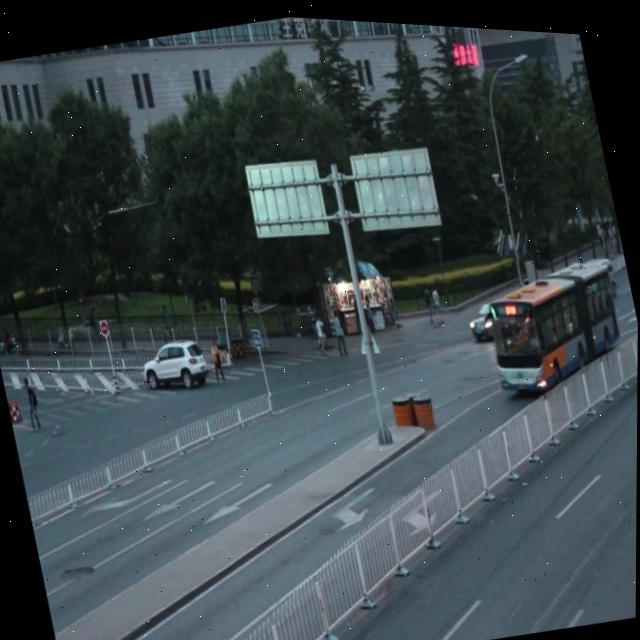car: (138, 328, 212, 394), (462, 290, 503, 336)
van: (481, 245, 627, 391)
